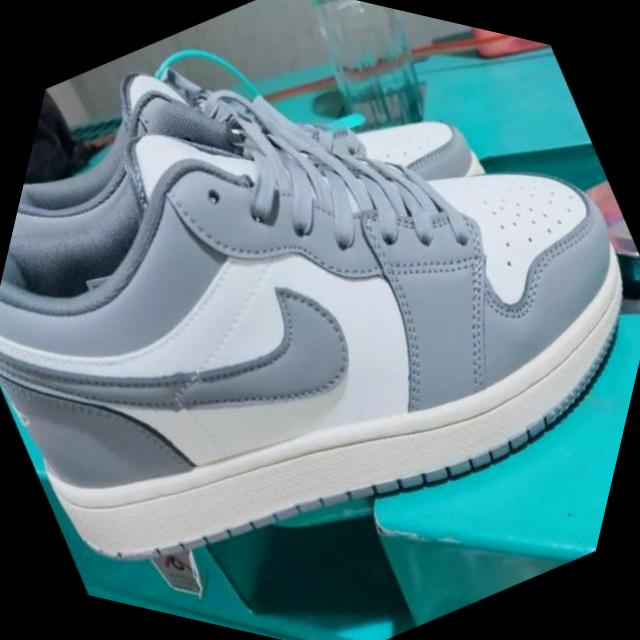nike_fake_jordan: (0, 0, 640, 640), (0, 0, 545, 483)
